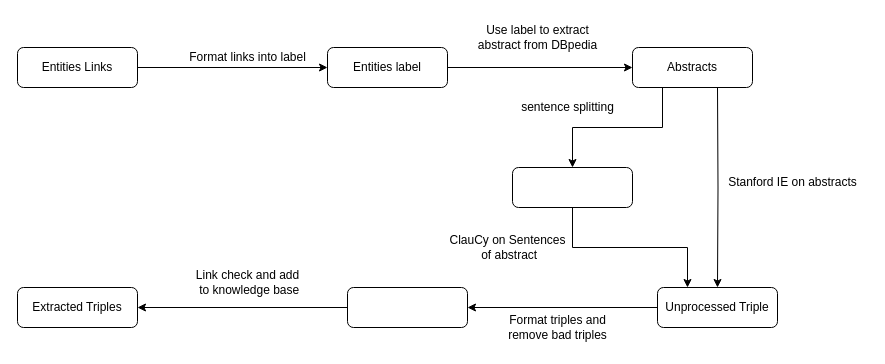
Image size: 885x364. Some labels were removed from this diagram. Here are the shapes that lost their labels. From the top down, the box of each, then its label:
(512, 166, 632, 208): Abstracts split into sentences
(346, 286, 468, 328): Formatted Triple
